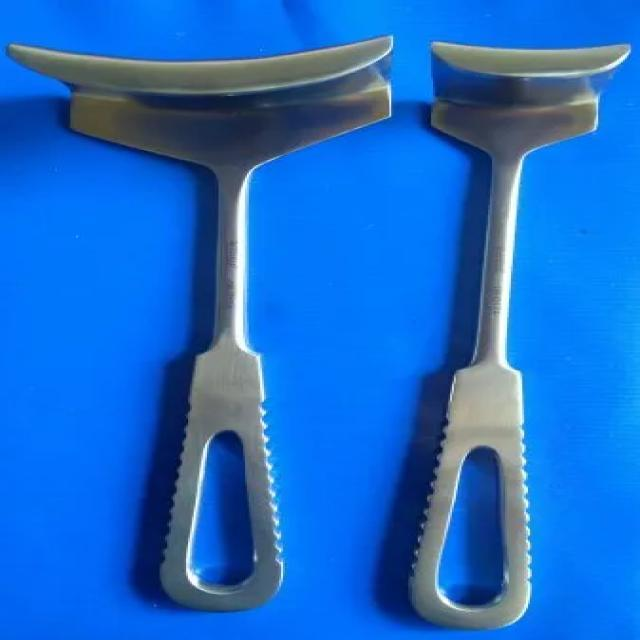Morris Retractor: (0, 29, 392, 618), (393, 40, 640, 626)
